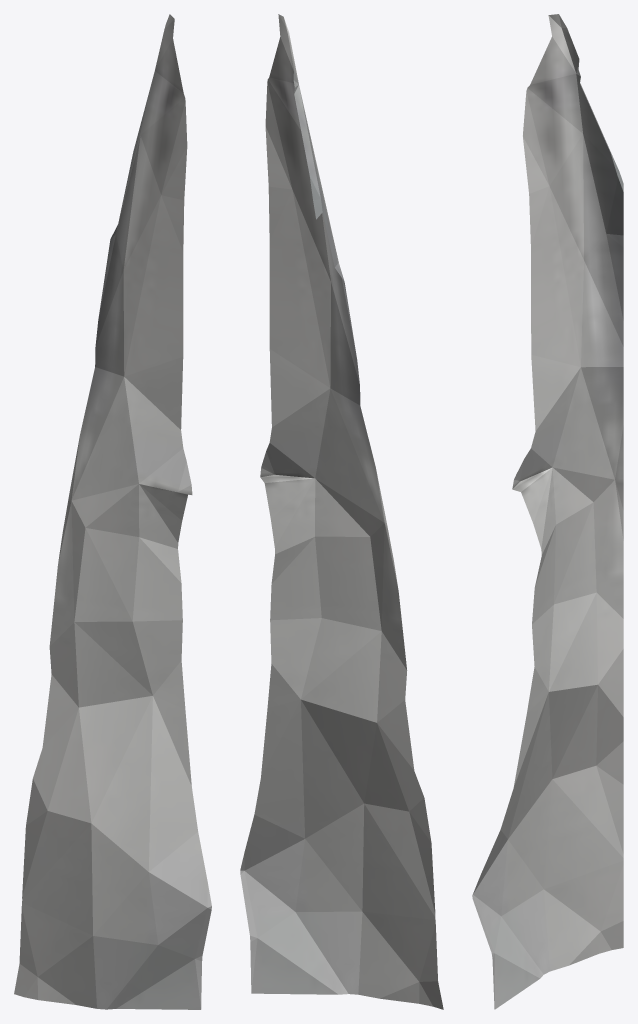
3 renders of one model, left to right at view 1: azimuth 30°, elevation 25°; view 2: azimuth 210°, elevation 25°; view 3: azimuth 270°, elevation 25°, orthographic. The views are drawn at different scales.
Bounding box in the file's own units: 0.0739 × 0.5535 × 0.0762.
1 material, 1 textured.
